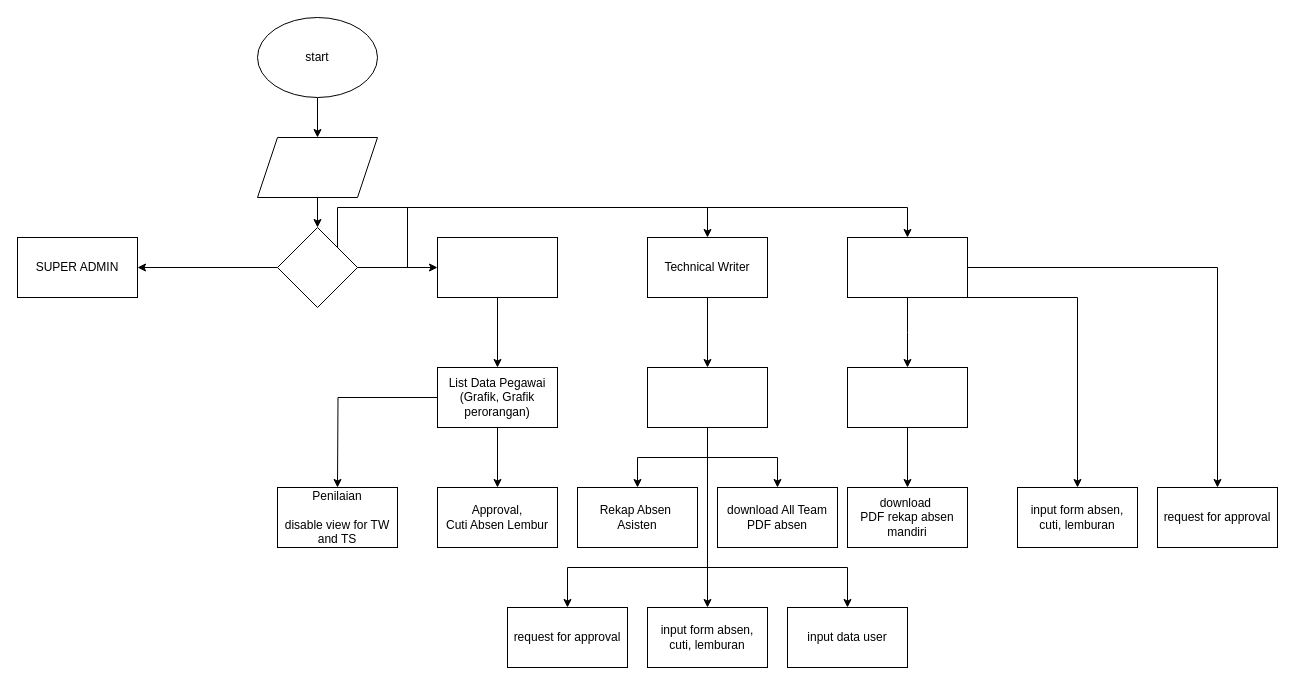
Image size: 1295x685. Some labels were removed from this diagram. Each missing label, with the box of its shape:
D ata Pegawai (Grafik peroragan): (846, 366, 968, 428)
List Data Pegawai (Grafik, Grafik peroran gan): (646, 366, 768, 428)
Login: (256, 136, 378, 198)
ROLE?: (276, 226, 358, 308)
Team Leader: (436, 236, 558, 298)
Technical Support: (846, 236, 968, 298)
